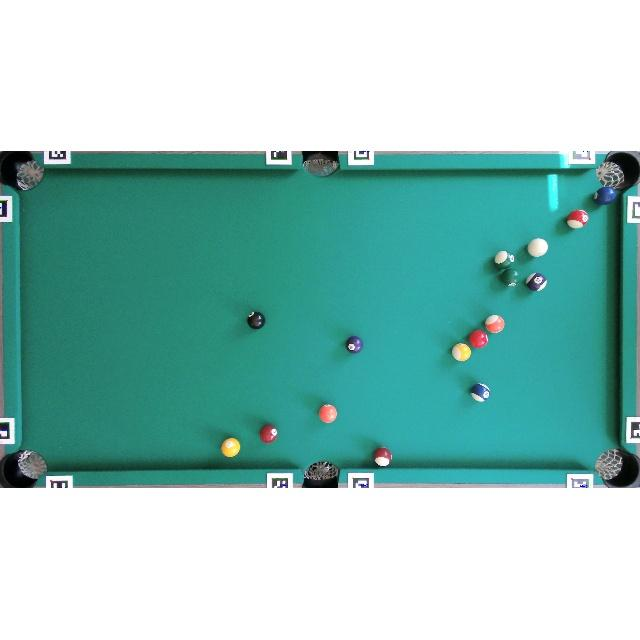cue ball: (528, 238, 548, 257)
other: (524, 272, 546, 292), (593, 187, 617, 205), (469, 383, 490, 402), (566, 210, 588, 228), (468, 329, 488, 348), (500, 268, 520, 287), (373, 448, 392, 467), (222, 437, 240, 457), (319, 404, 337, 424), (452, 343, 472, 361), (260, 424, 278, 444), (485, 315, 505, 333), (494, 250, 514, 268), (247, 311, 265, 329), (346, 336, 362, 353)
